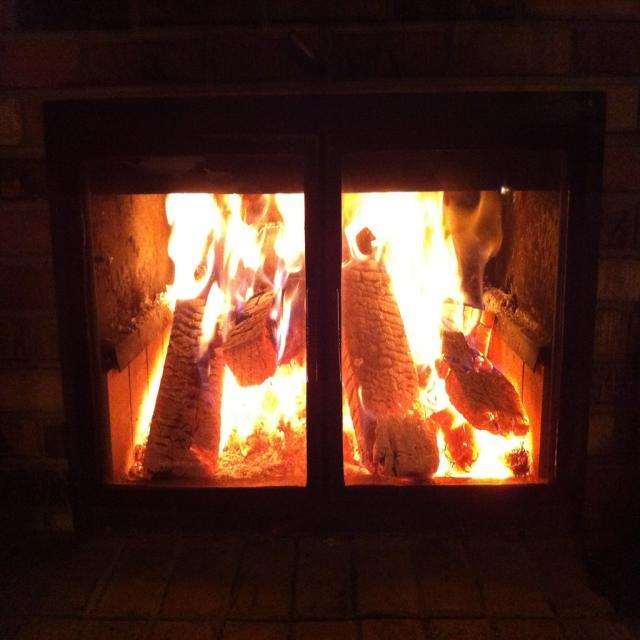Fire: (358, 199, 446, 268), (224, 370, 302, 442), (164, 198, 226, 280), (398, 274, 452, 346)
